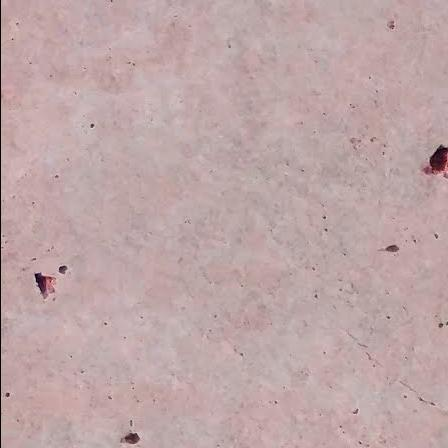spalling: (27, 264, 63, 302), (118, 432, 141, 446), (56, 263, 69, 276)
